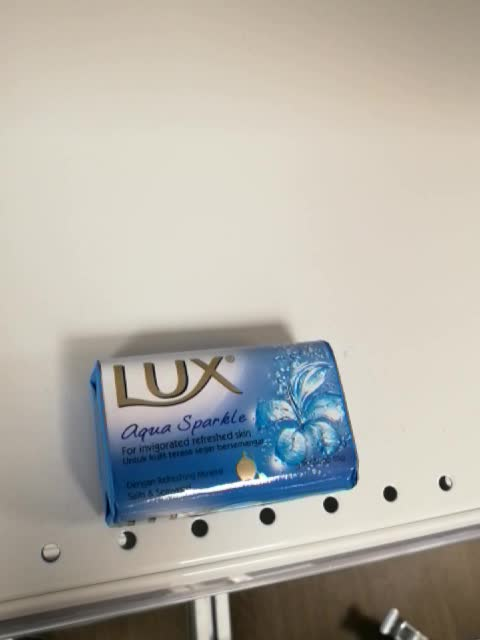soap: (81, 338, 360, 531)
